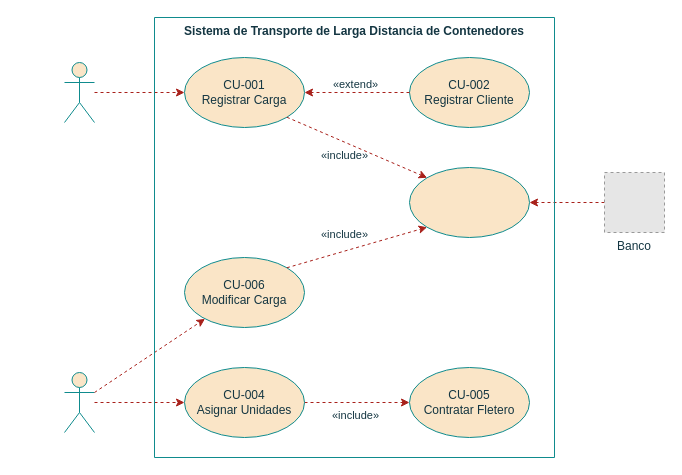
Image size: 682x475. Some labels were removed from this diagram. Grey dashed boxes stand in for pictures. Each missing label, with the centre of its shape:
Asesor Comercial: the point at 79,92
CU-003 Facturar Carga: the point at 469,202
Encargado de Logistica: the point at 79,402
